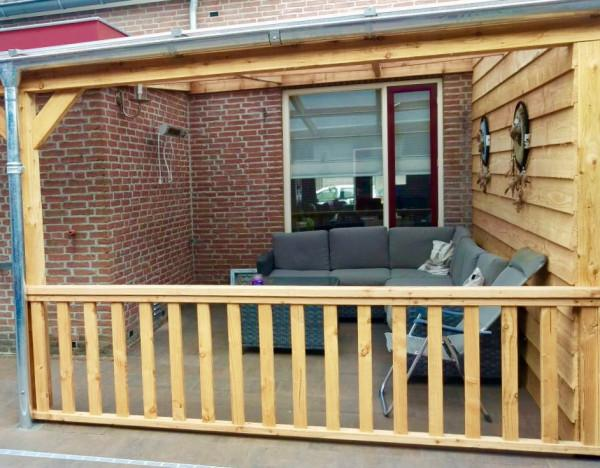obstacle: (20, 174, 600, 340)
